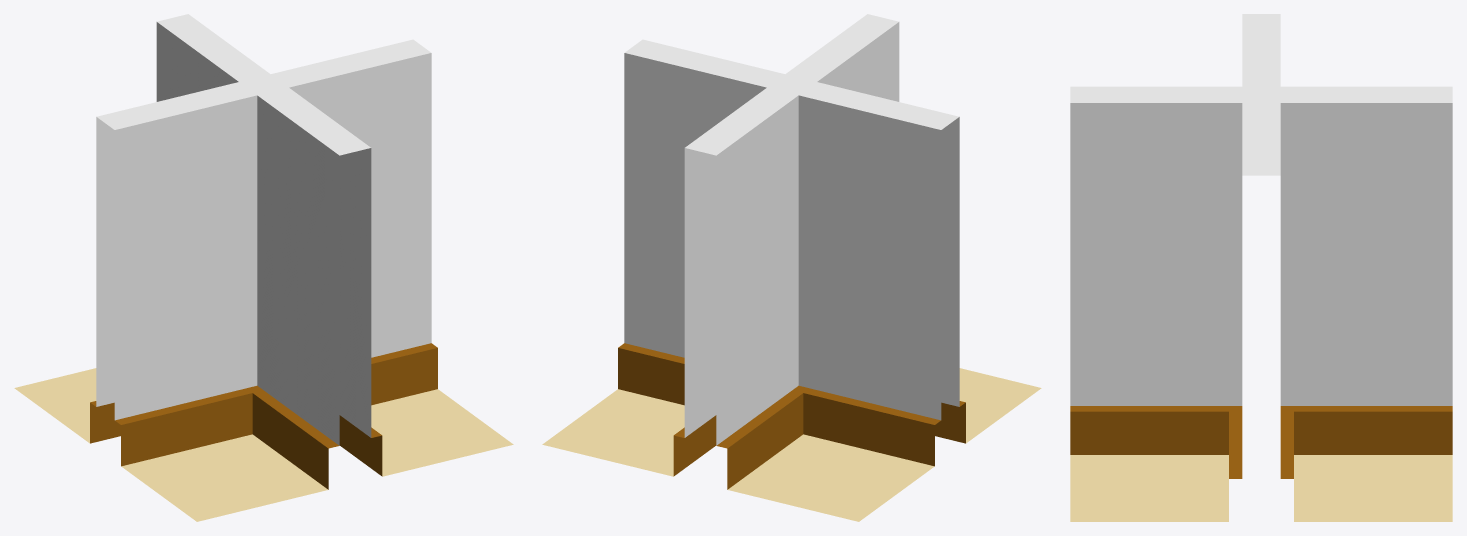
The model's file is I_Wall_Plus_Shape.fbx.
3 views of the same model, side by side, from view 1: azimuth 30°, elevation 25°; view 2: azimuth 150°, elevation 25°; view 3: azimuth 270°, elevation 25° (orthographic). The views are drawn at different scales.
Visible parts, largest first — view 1: I_Wall_Plus_Shape; view 2: I_Wall_Plus_Shape; view 3: I_Wall_Plus_Shape.
Boxes of the visible parts, box(x1,y1,x2,y2) form: I_Wall_Plus_Shape: box(14, 14, 513, 521); I_Wall_Plus_Shape: box(542, 14, 1041, 521); I_Wall_Plus_Shape: box(1070, 14, 1452, 521).
Size of the model in its own units: 200 by 200 by 200.
Materials: 1 (1 with a texture image).
